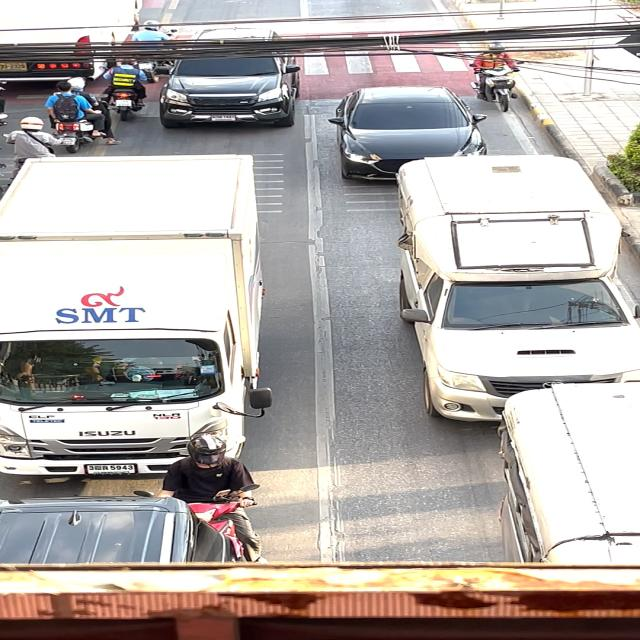car: (0, 144, 281, 482), (374, 135, 640, 415), (152, 14, 312, 139), (324, 76, 492, 192)
